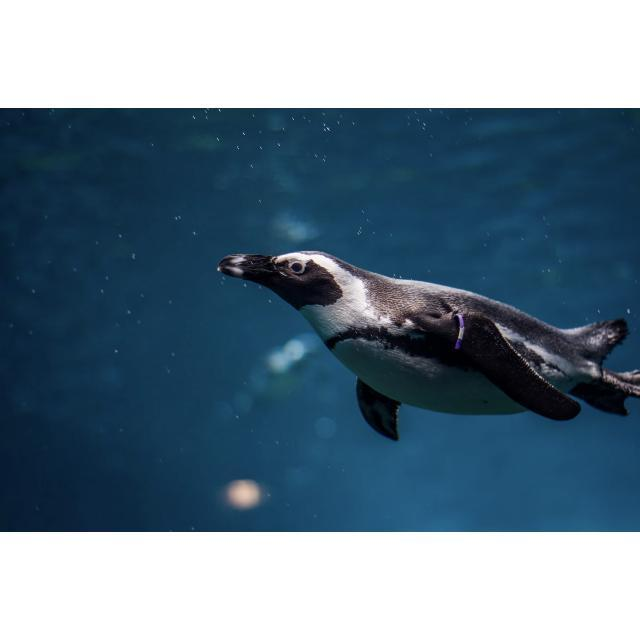penguin: (215, 248, 639, 444)
